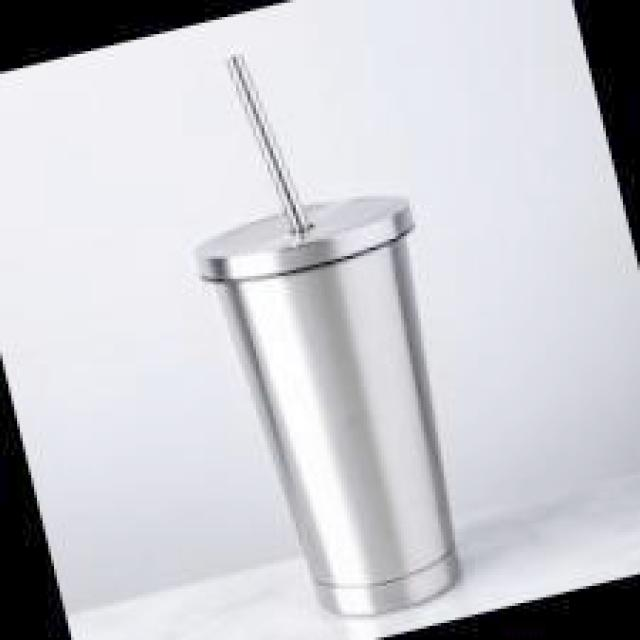bottle: (140, 17, 510, 640)
